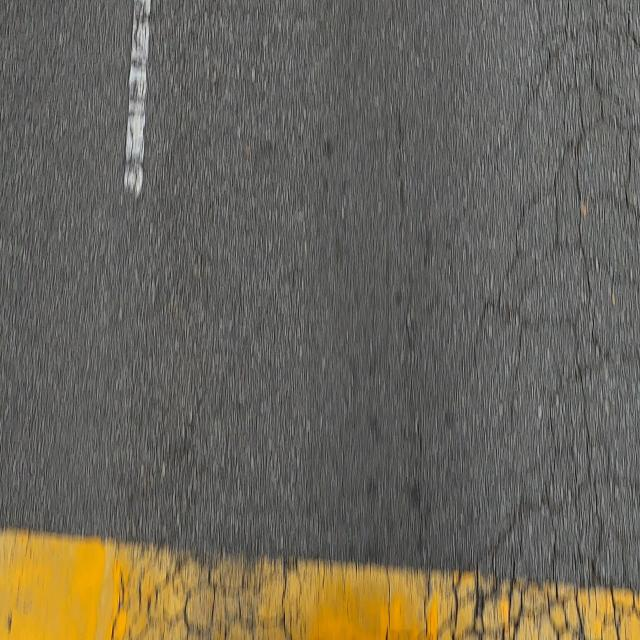Retak-Buaya: (445, 3, 640, 640), (111, 544, 306, 640)
